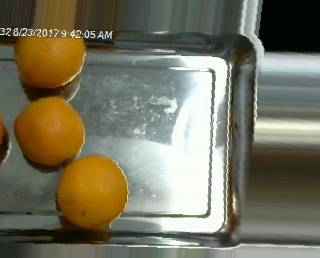Orange: (56, 154, 128, 229), (15, 94, 85, 167)
